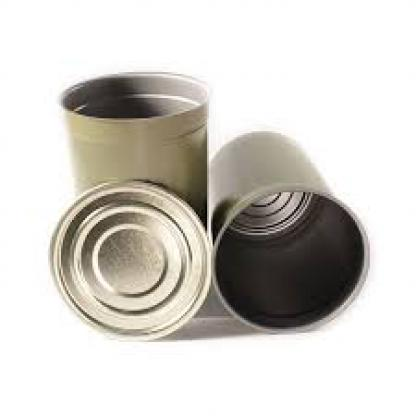METAL: (209, 128, 366, 336), (48, 178, 213, 342), (57, 72, 207, 235)
